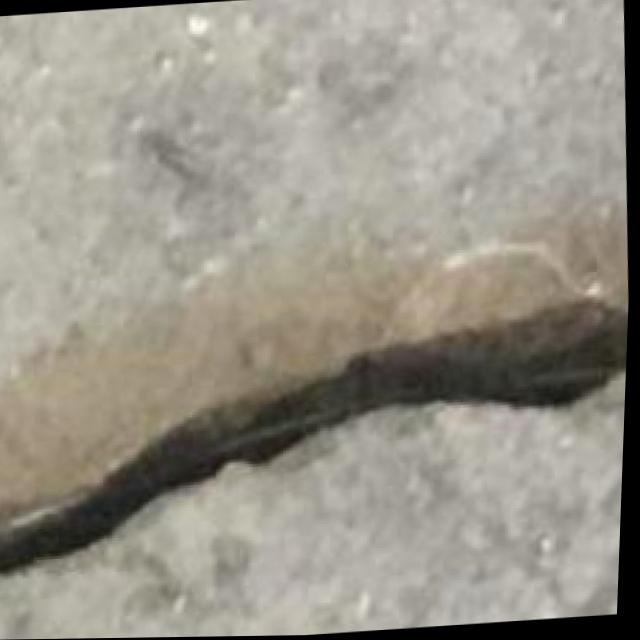Crack: (0, 251, 618, 566)
